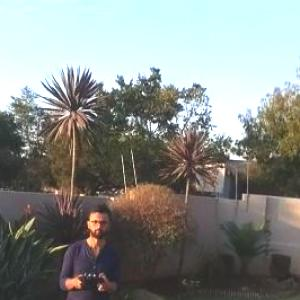follow: (54, 201, 124, 299)
